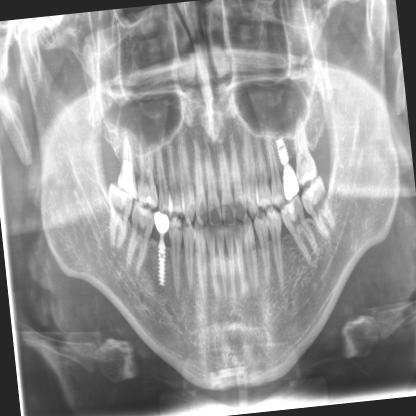Bicon: (151, 234, 176, 292), (271, 124, 294, 170)
